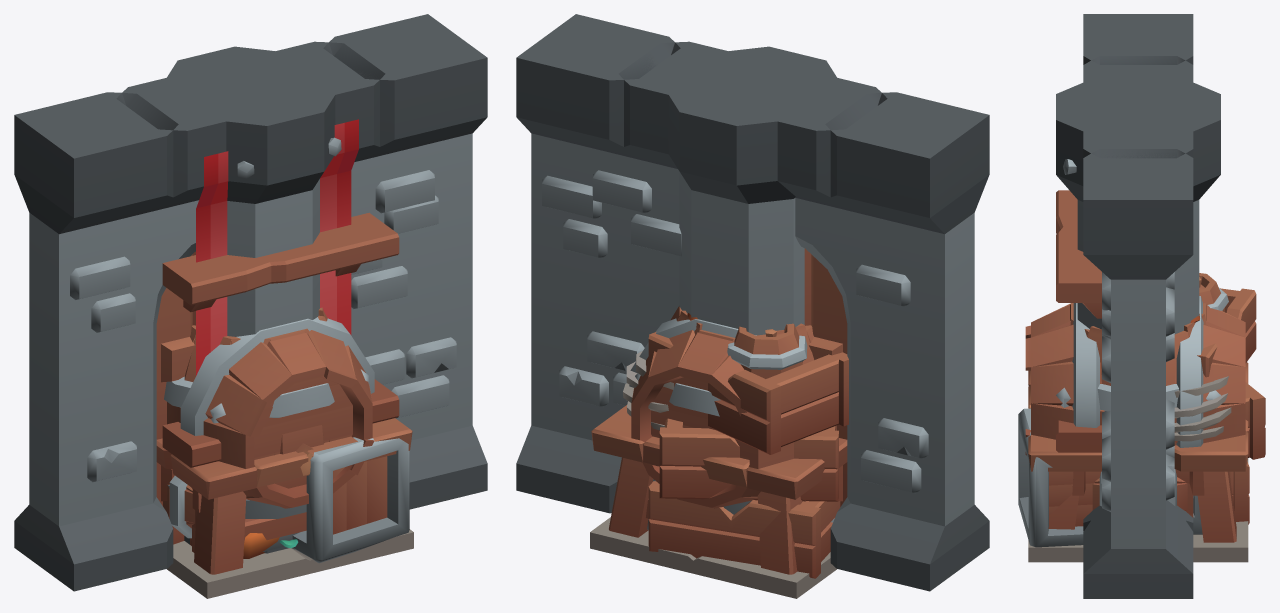
File: dungeon.glb
3 views of the same model, side by side, from view 1: azimuth 30°, elevation 25°; view 2: azimuth 150°, elevation 25°; view 3: azimuth 270°, elevation 25° (orthographic). The views are drawn at different scales.
Parts seen in each view (by area): view 1: wall_doorway, keg, pillar, wall_half, shelves, crates_stacked, table_medium_decorated_A, banner_red, barrel_large, floor_tile_small, wall_doorway_door, floor_tile_small_broken_A (+1 smaller); view 2: wall_doorway, wall_half, crates_stacked, pillar, table_medium_decorated_A, keg, floor_tile_small, wall_doorway_door, barrel_large; view 3: wall_doorway, wall_half, keg, crates_stacked, table_medium_decorated_A, pillar, shelves, floor_tile_small, barrel_large, chest_lid, barrel_small_stack, box_large.
Boxes of the visible parts, x1,y1,x2,y2 form: wall_doorway: (14, 14, 487, 591); keg: (167, 317, 374, 545); pillar: (167, 46, 335, 553); wall_half: (222, 14, 487, 384); shelves: (162, 212, 399, 467); crates_stacked: (163, 437, 409, 563); table_medium_decorated_A: (156, 418, 412, 574); banner_red: (196, 119, 358, 375); barrel_large: (164, 307, 334, 518); floor_tile_small: (167, 529, 413, 598); wall_doorway_door: (156, 251, 195, 505); floor_tile_small_broken_A: (173, 530, 412, 582); wall_doorway: (522, 14, 989, 591); wall_half: (516, 14, 780, 513); crates_stacked: (648, 313, 848, 578); pillar: (668, 46, 836, 335); table_medium_decorated_A: (591, 351, 847, 574); keg: (629, 318, 836, 508); floor_tile_small: (590, 517, 836, 598); wall_doorway_door: (804, 248, 847, 506); barrel_large: (669, 306, 836, 514); wall_doorway: (1083, 14, 1193, 598); wall_half: (1083, 107, 1193, 598); keg: (1025, 296, 1245, 455); crates_stacked: (1018, 273, 1265, 547); table_medium_decorated_A: (1028, 362, 1248, 542); pillar: (1056, 82, 1220, 334); shelves: (1056, 190, 1101, 452); floor_tile_small: (1028, 458, 1248, 562); barrel_large: (1070, 303, 1206, 498); chest_lid: (1072, 432, 1204, 495); barrel_small_stack: (1092, 469, 1187, 510); box_large: (1056, 387, 1220, 534).
Bounding box in the file's own units: 4 × 4.38 × 2.25.
1 material, 1 textured.
